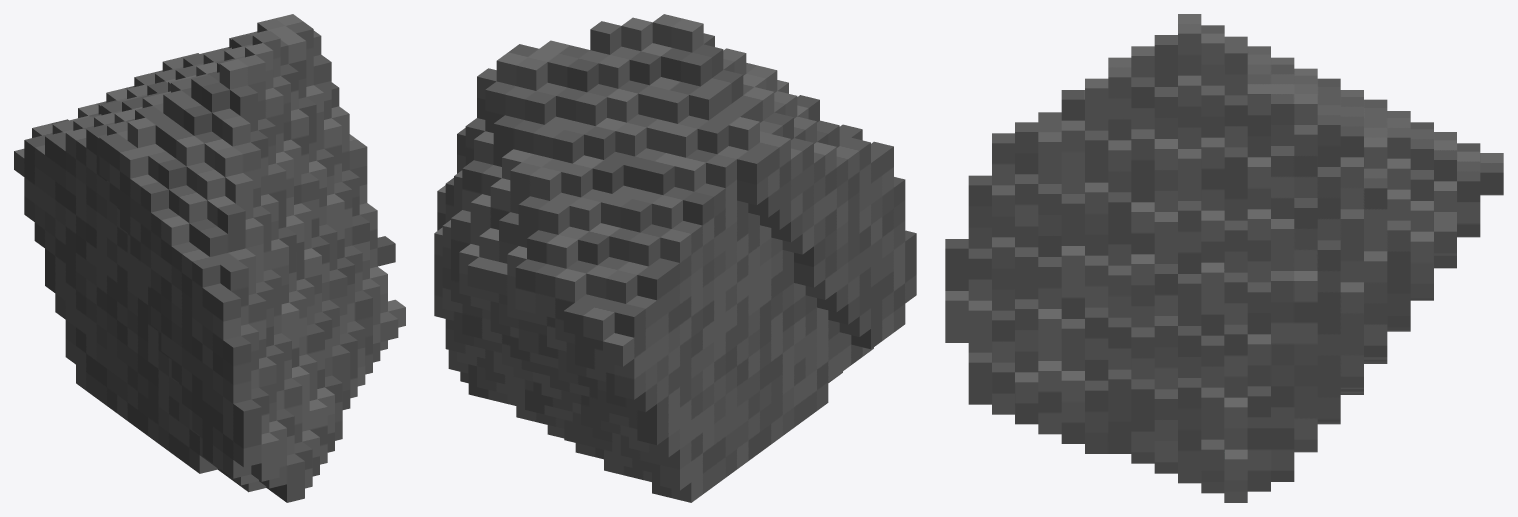
The model's file is Asteroid_A7.fbx.
The picture shows the model from 3 angles, left to right: view 1: azimuth 30°, elevation 25°; view 2: azimuth 150°, elevation 25°; view 3: azimuth 270°, elevation 25°; orthographic projection. The views are drawn at different scales.
Visible parts, largest first — view 1: T1-6; view 2: T1-6; view 3: T1-6.
Boxes of the visible parts, bbox=[...] form: T1-6: bbox=[14, 14, 405, 502]; T1-6: bbox=[434, 14, 916, 502]; T1-6: bbox=[945, 14, 1503, 502].
Size of the model in its own units: 160 by 190 by 240.
